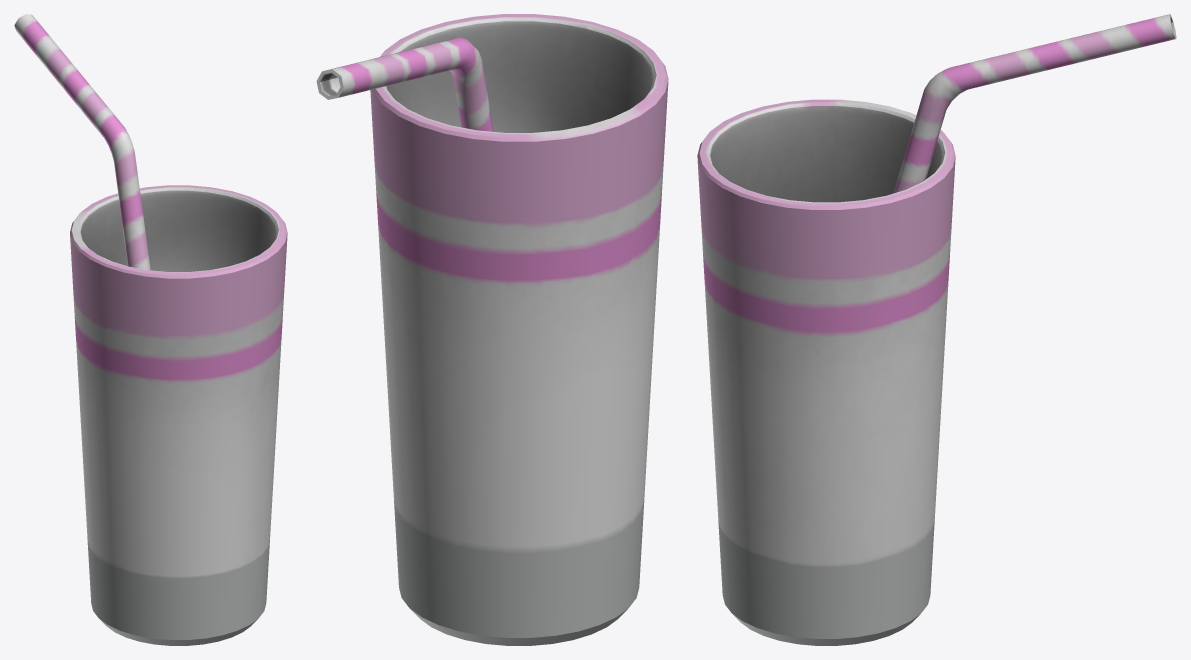
File: verre2.fbx
3 views of the same model, side by side, from view 1: azimuth 30°, elevation 25°; view 2: azimuth 150°, elevation 25°; view 3: azimuth 270°, elevation 25° (orthographic). The views are drawn at different scales.
Visible parts, largest first — view 1: SM_cup_dot_straw; view 2: SM_cup_dot_straw; view 3: SM_cup_dot_straw.
Part boxes in pixels (x1,y1,x2,y2): SM_cup_dot_straw: (14, 14, 287, 645); SM_cup_dot_straw: (316, 14, 668, 645); SM_cup_dot_straw: (697, 14, 1176, 645).
Size of the model in its own units: 8.03 by 20.34 by 14.98.
